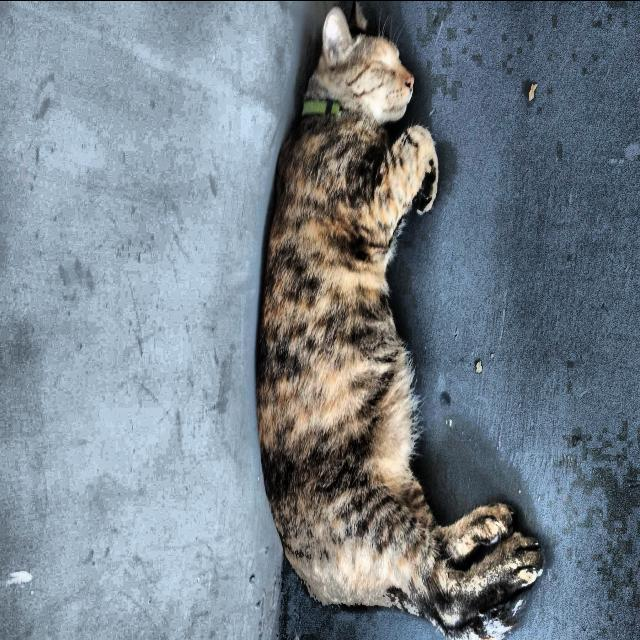Healthy skin: (278, 226, 382, 528)
